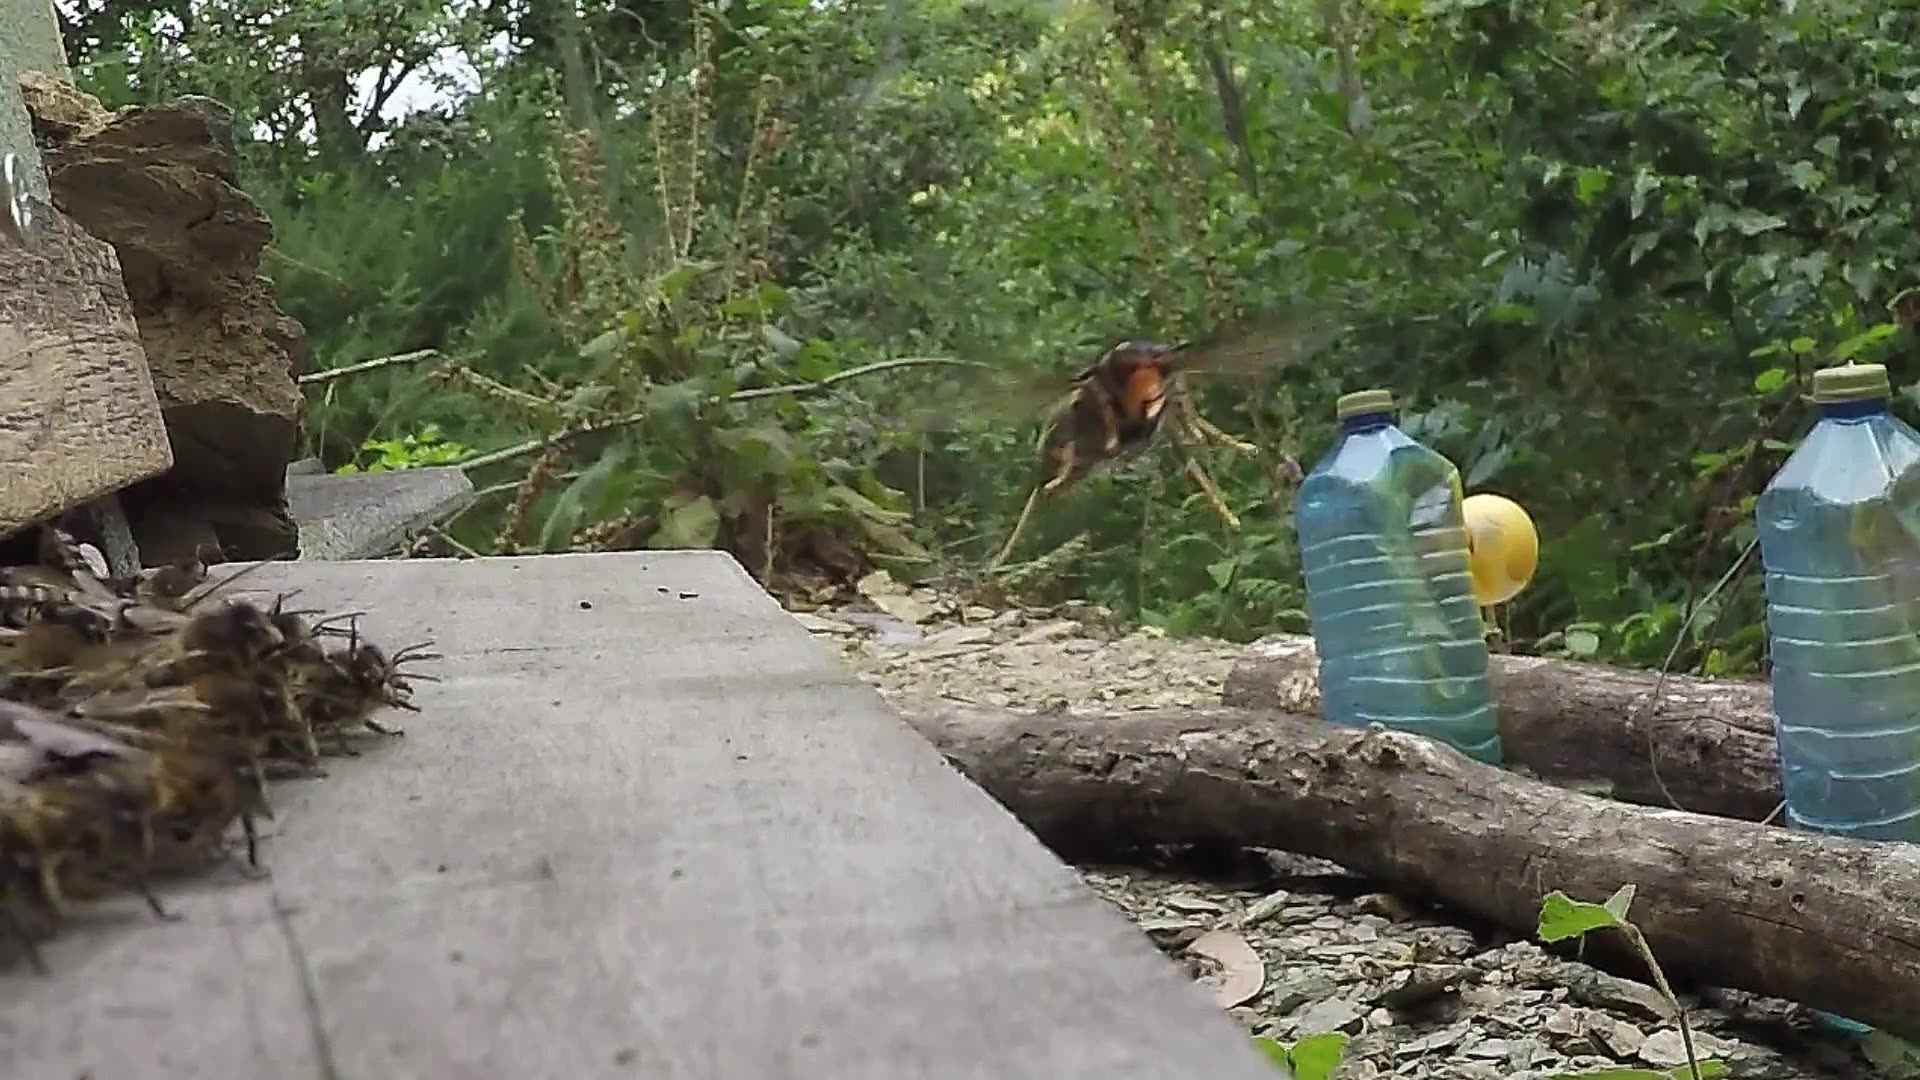bee: (1, 516, 418, 944)
hornet: (994, 323, 1234, 502)
